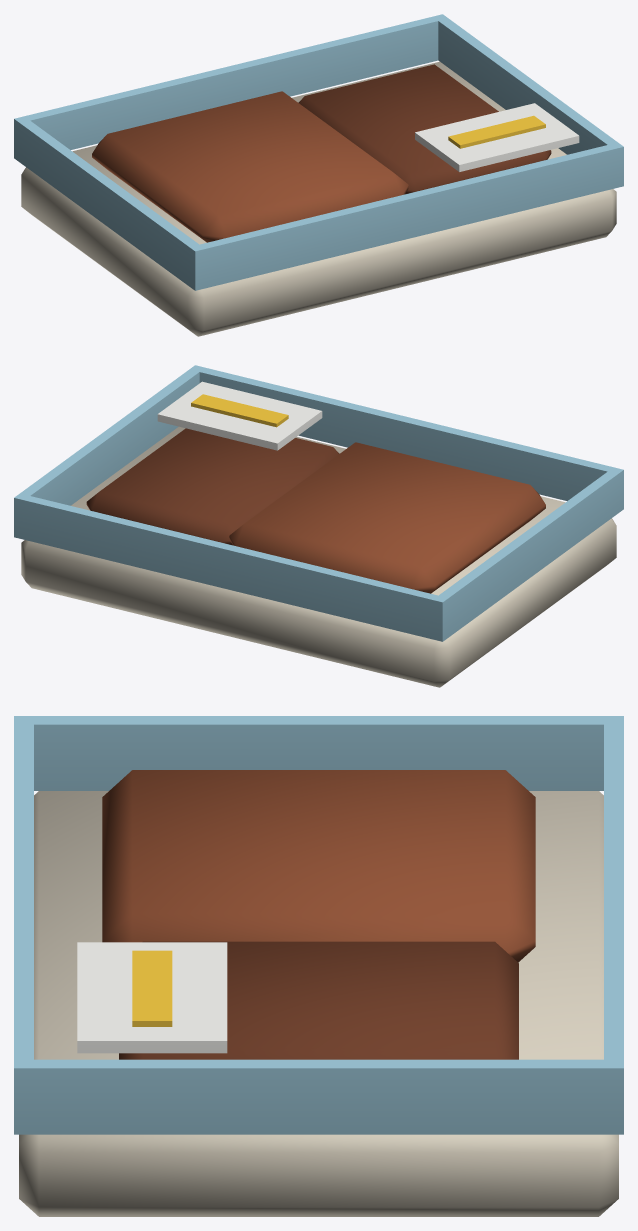
The model's file is Tray_Meat_01.glb.
3 renders of one model, top to bottom at view 1: azimuth 30°, elevation 25°; view 2: azimuth 150°, elevation 25°; view 3: azimuth 270°, elevation 25°, orthographic. The views are drawn at different scales.
Parts seen in each view (by area): view 1: SM_Tray_Meat_01; view 2: SM_Tray_Meat_01; view 3: SM_Tray_Meat_01.
Part boxes in pixels (<box>): SM_Tray_Meat_01: <box>14,14,623,336</box>; SM_Tray_Meat_01: <box>14,365,623,687</box>; SM_Tray_Meat_01: <box>14,716,623,1216</box>.
Size of the model in its own units: 0.25 by 0.056 by 0.183.
1 material, 1 textured.
